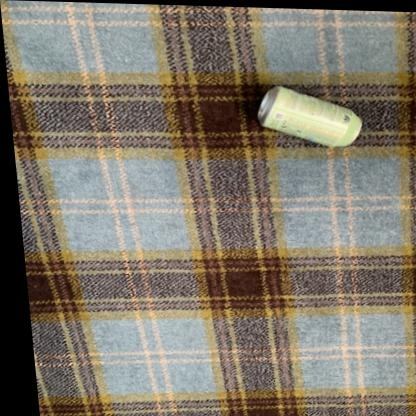trash: (258, 86, 361, 146)
